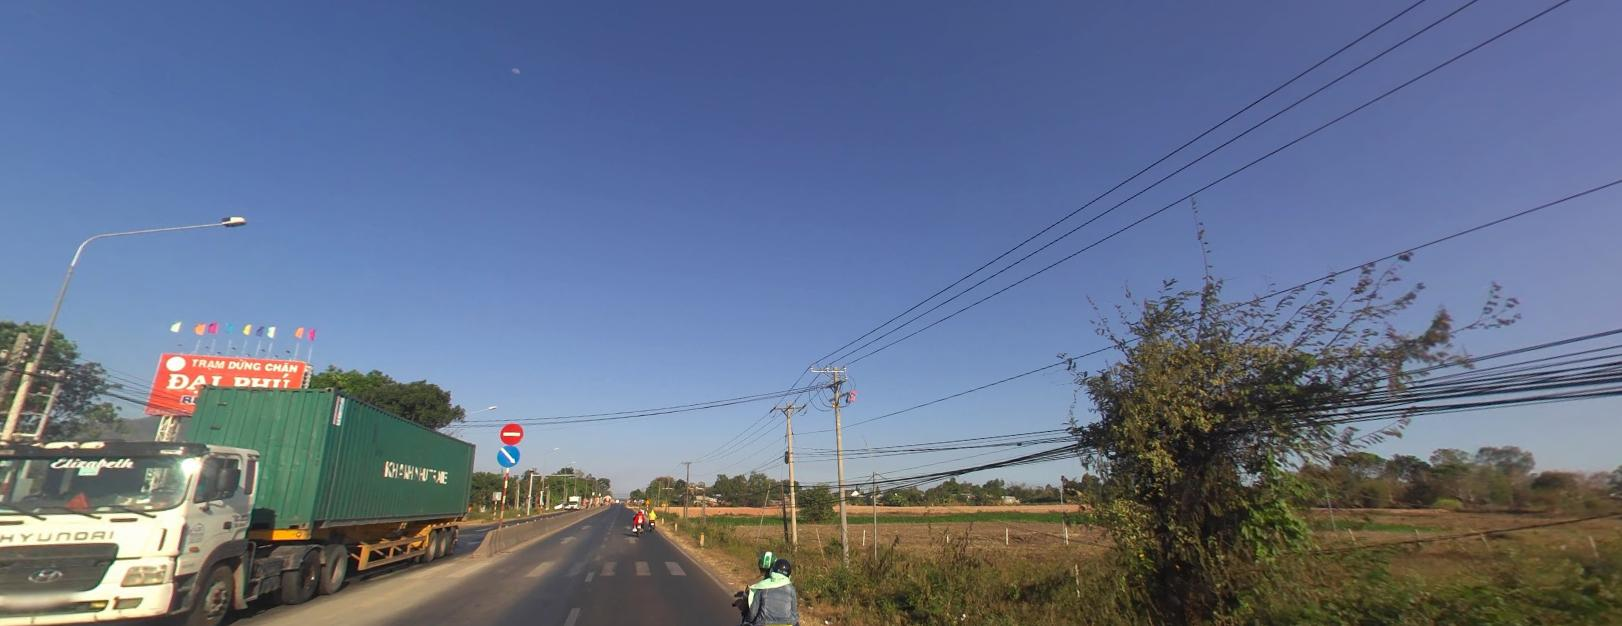Cam nguoc chieu: (499, 421, 524, 443)
Hieu lenh: (495, 443, 520, 466)
Nguy hiem: (644, 497, 650, 503)
